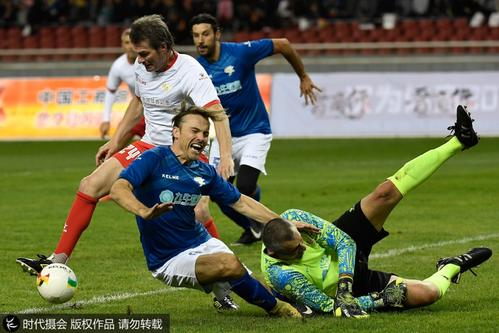10+: (1, 1, 498, 324)
down: (255, 102, 495, 321), (106, 103, 309, 323)
